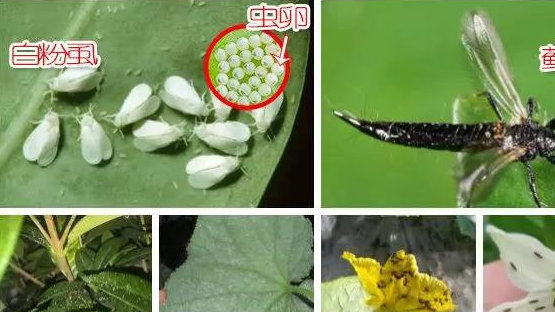Phlaeothripidae: (329, 9, 555, 211)
